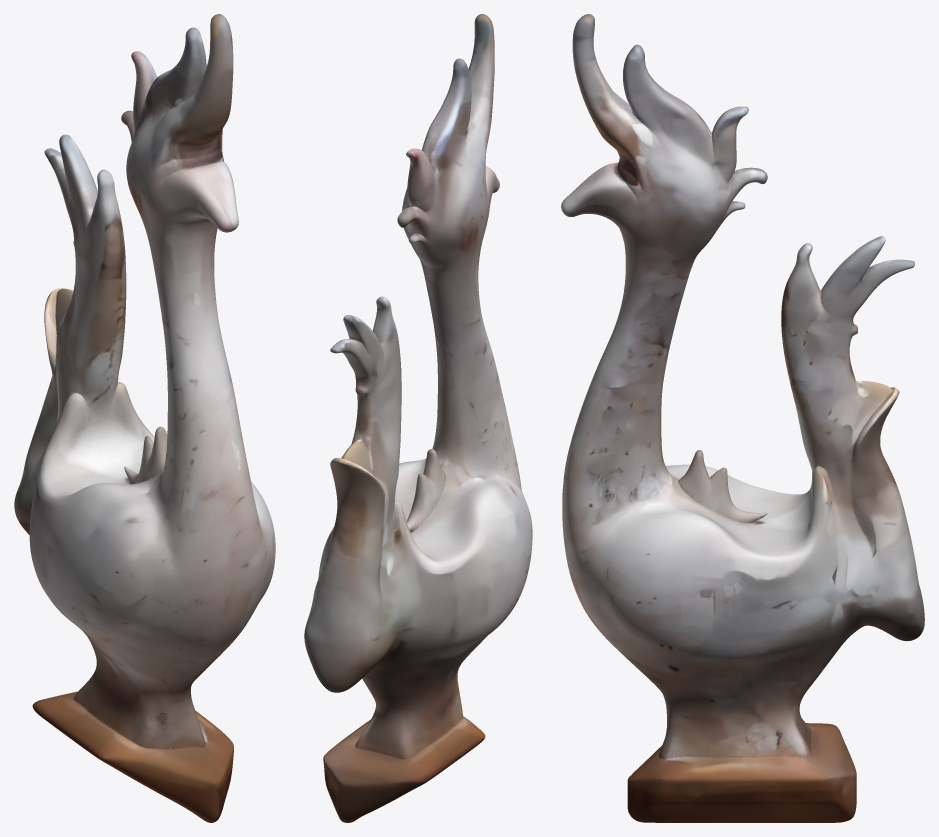
File: anka-v-ai-rodin.glb
3 views of the same model, side by side, from view 1: azimuth 30°, elevation 25°; view 2: azimuth 150°, elevation 25°; view 3: azimuth 270°, elevation 25° (orthographic). The views are drawn at different scales.
Parts seen in each view (by area): view 1: model; view 2: model; view 3: model.
Part boxes in pixels (x1,y1,x2,y2): model: [14, 14, 275, 822]; model: [304, 14, 532, 822]; model: [561, 14, 924, 822].
Bounding box in the file's own units: 0.3935 × 1.71 × 0.7059.
Materials: 1 (1 with a texture image).
